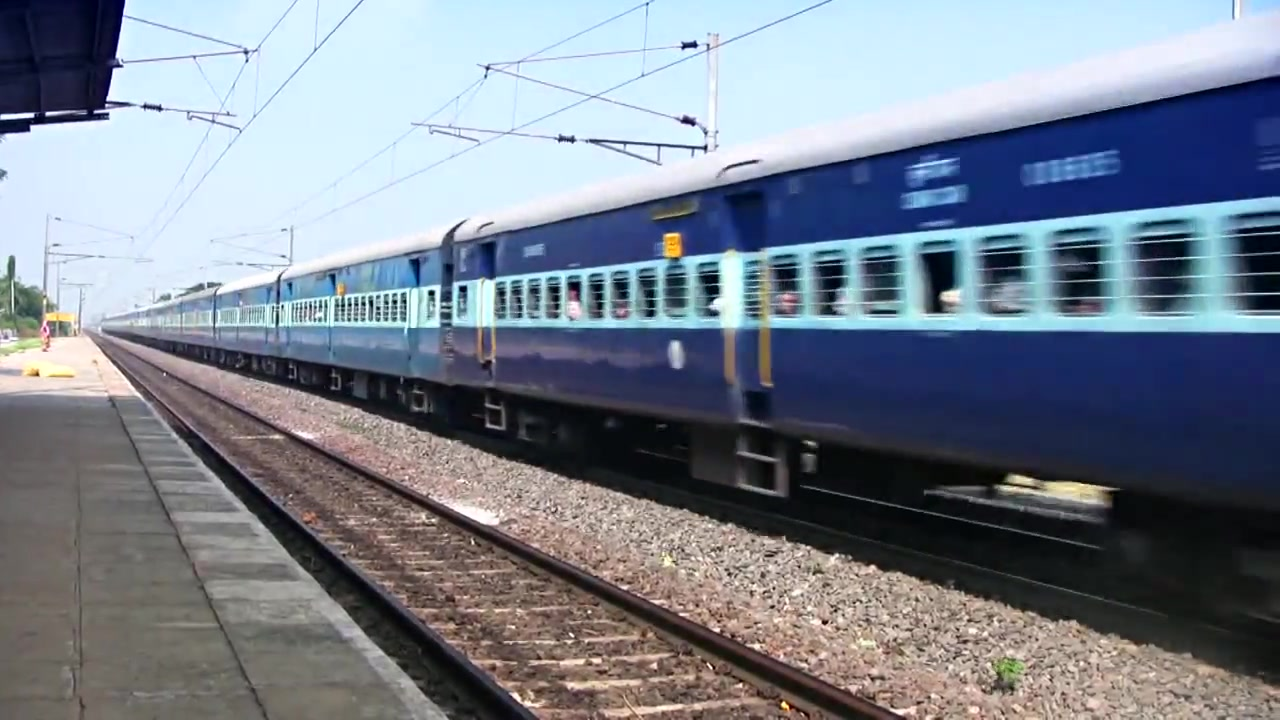train: (99, 5, 1280, 547)
